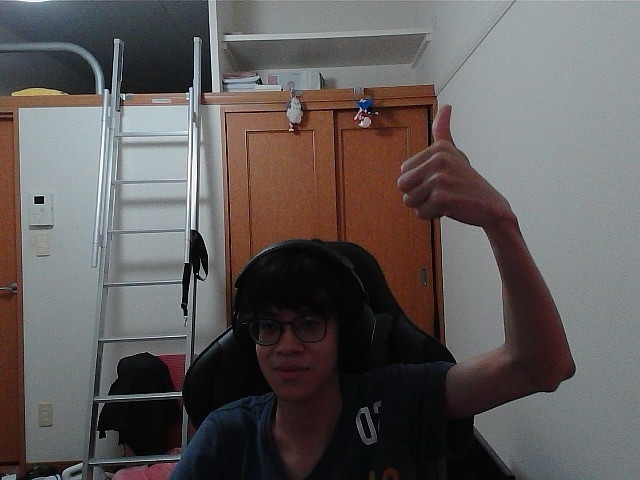thumb_up: (404, 111, 492, 214)
